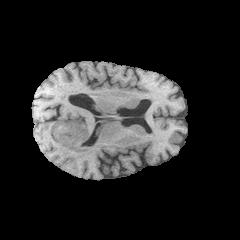glioma: (54, 116, 93, 159)
